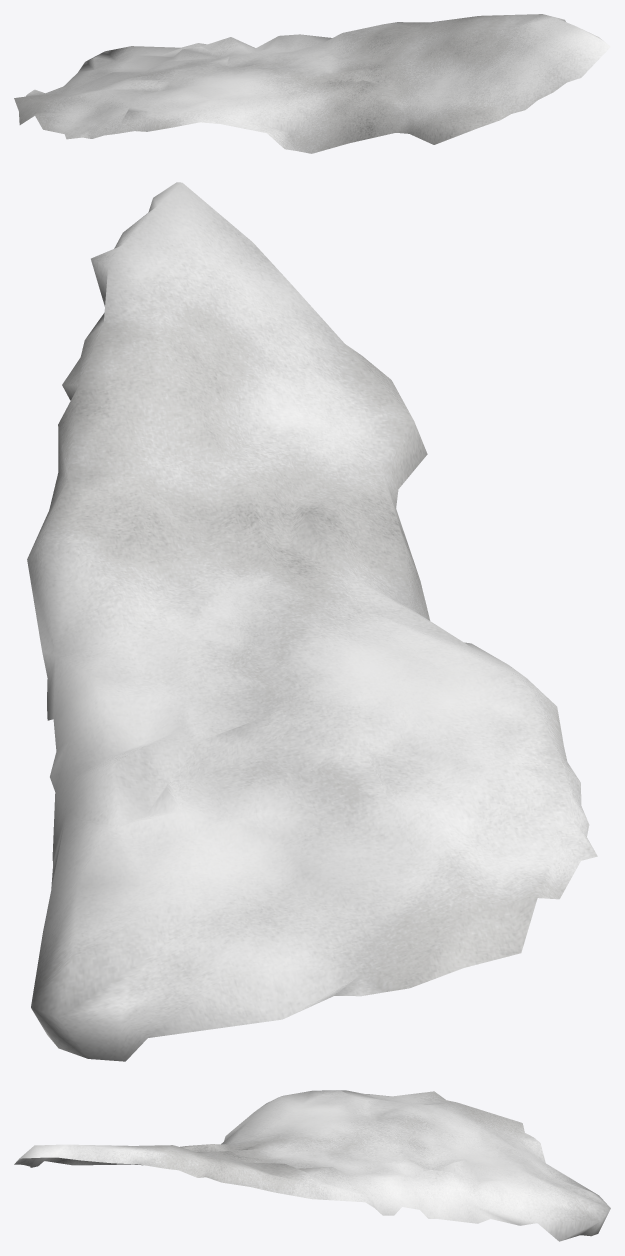
Rendered from galtelli_small_avalanche.dae.
3 renders of one model, top to bottom at view 1: azimuth 30°, elevation 25°; view 2: azimuth 150°, elevation 25°; view 3: azimuth 270°, elevation 25°, orthographic. The views are drawn at different scales.
Parts seen in each view (by area): view 1: Cube_001; view 2: Cube_001; view 3: Cube_001.
Boxes of the visible parts, <box> form: Cube_001: <box>14,14,610,153</box>; Cube_001: <box>27,182,597,1061</box>; Cube_001: <box>14,1090,610,1241</box>.
Bounding box in the file's own units: 69.58 × 89.91 × 32.75.
Materials: 1 (1 with a texture image).
